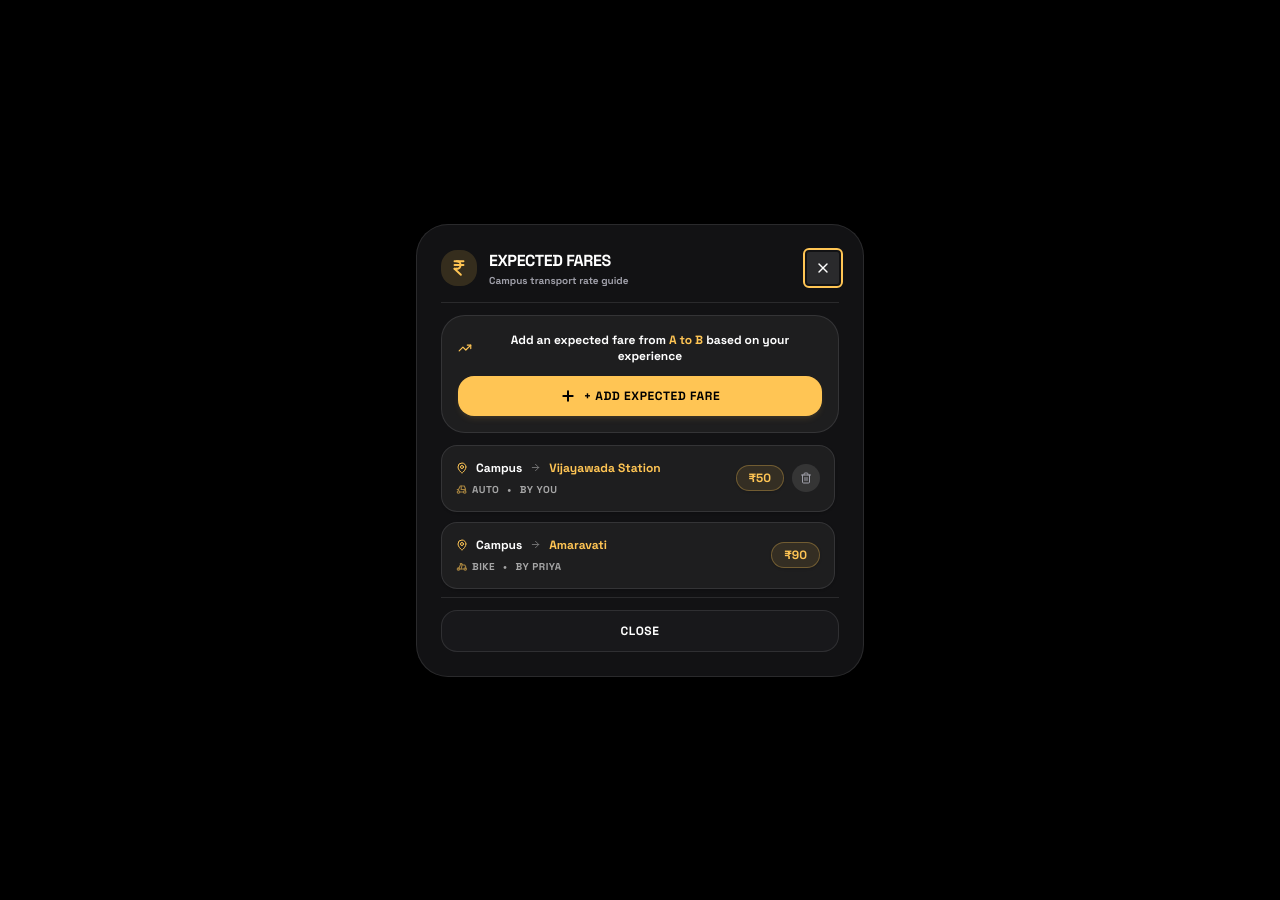
Test: ExpectedFaresModal › removes an owned fare entry
This screenshot has width=1280, height=900.
Expected: the text "Vijayawada Station" is shown, [549, 460, 661, 476]
Click the button named "Delete fare".
click(806, 478)  # box [792, 464, 820, 492]
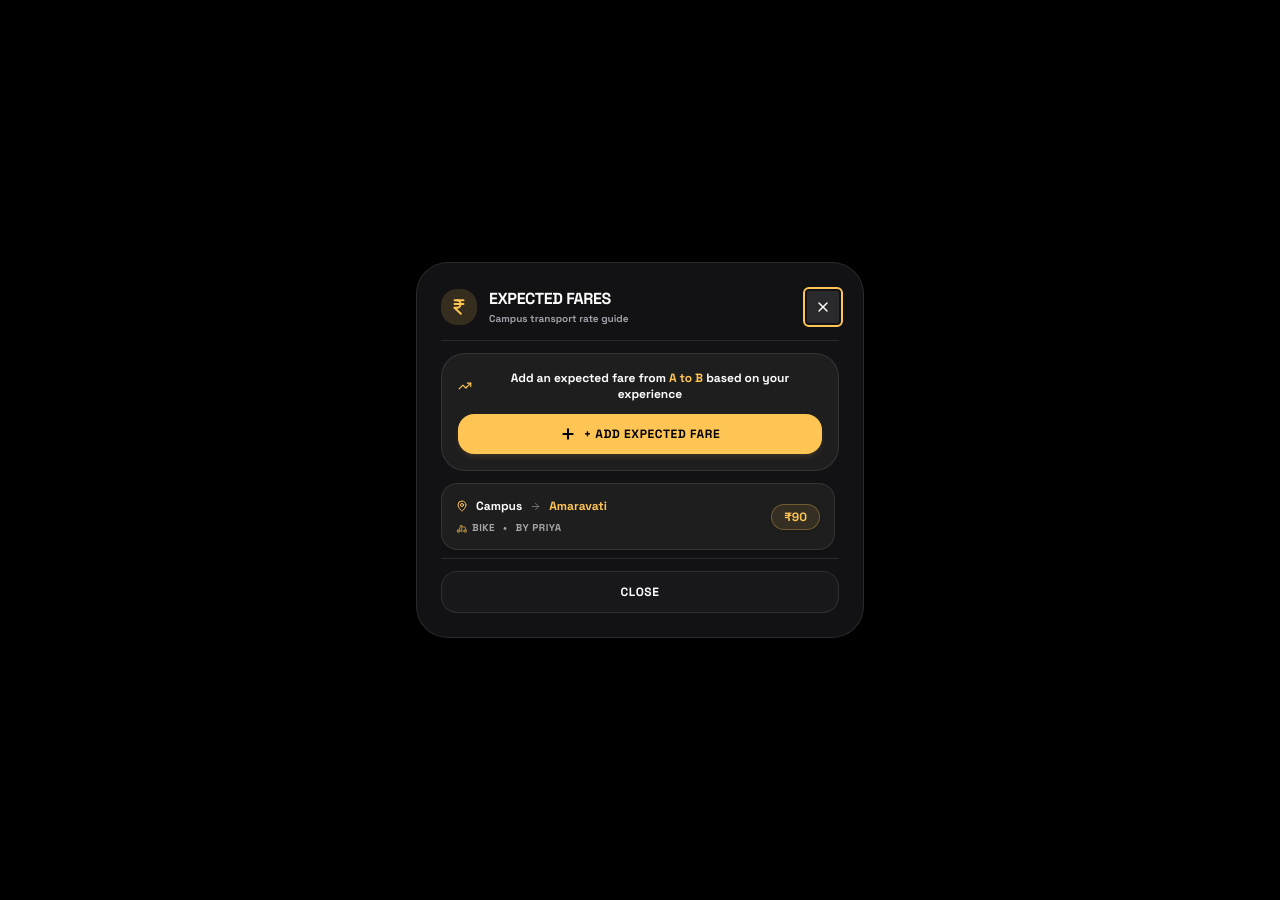
Expected: the text "₹90" is shown, [771, 504, 820, 530]
Now the text "₹50" is gone
